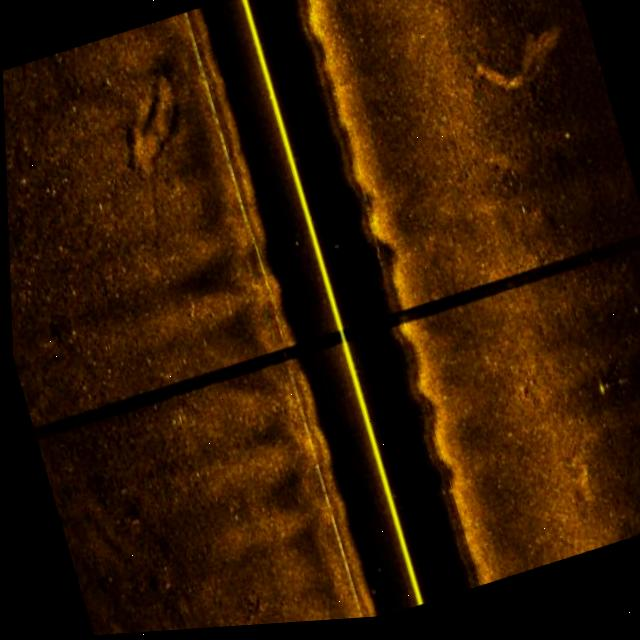mine: (586, 371, 636, 411)
